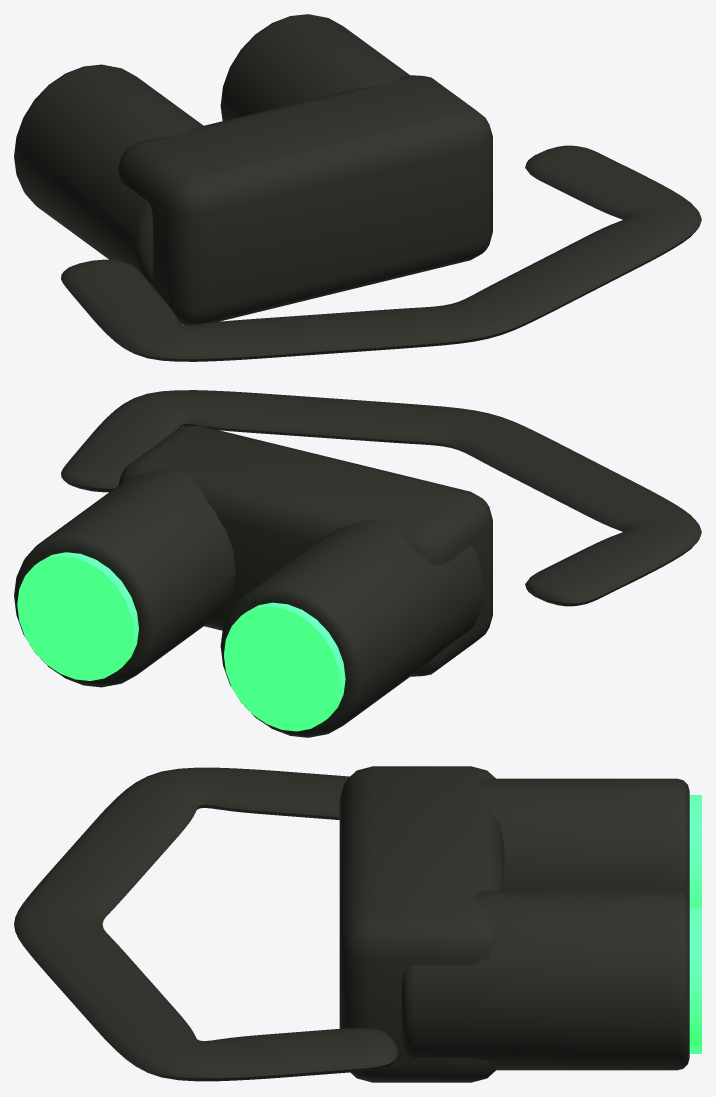
Rendered from nightVision.glb.
The picture shows the model from 3 angles, top to bottom: view 1: azimuth 30°, elevation 25°; view 2: azimuth 150°, elevation 25°; view 3: azimuth 270°, elevation 25°; orthographic projection. The views are drawn at different scales.
Visible parts, largest first — view 1: body.001; view 2: body.001, lens.001; view 3: body.001, lens.001.
Boxes of the visible parts, x1,y1,x2,y2 form: body.001: [14, 14, 701, 361]; body.001: [14, 390, 701, 737]; lens.001: [17, 552, 345, 731]; body.001: [14, 766, 689, 1082]; lens.001: [689, 795, 701, 1053].
Size of the model in its own units: 0.177 by 0.044 by 0.1671.
